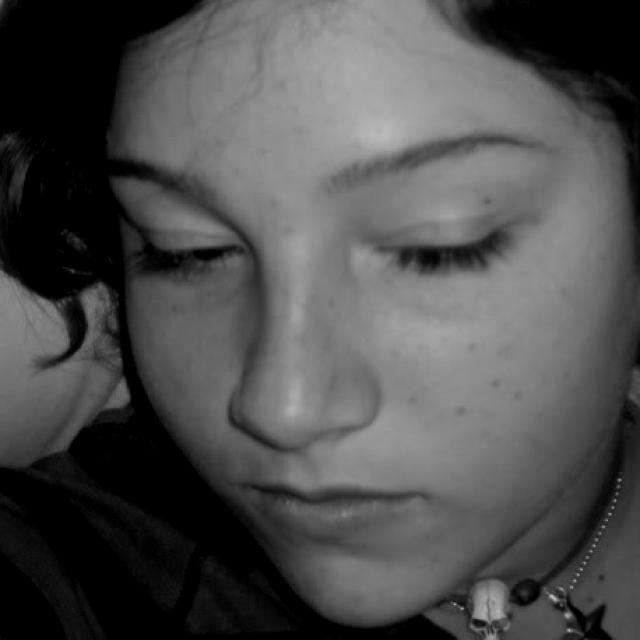real: (92, 55, 622, 613), (119, 179, 516, 300)
